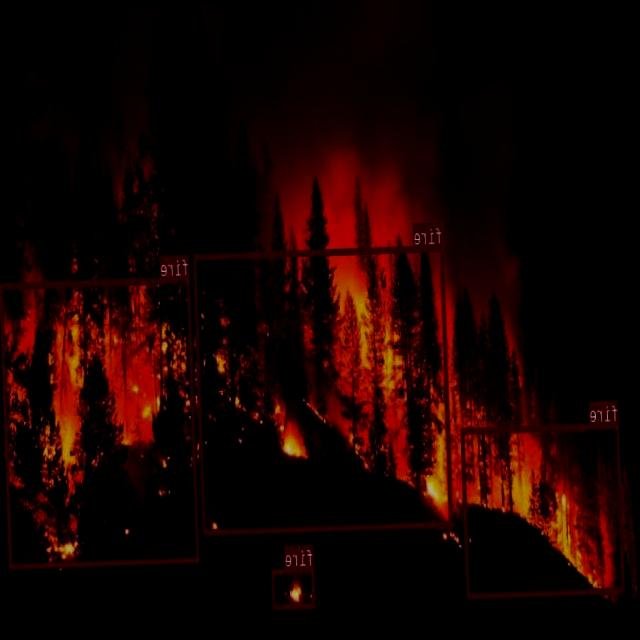fire: (194, 244, 454, 534), (0, 274, 201, 566), (460, 422, 625, 597), (272, 566, 316, 608)
